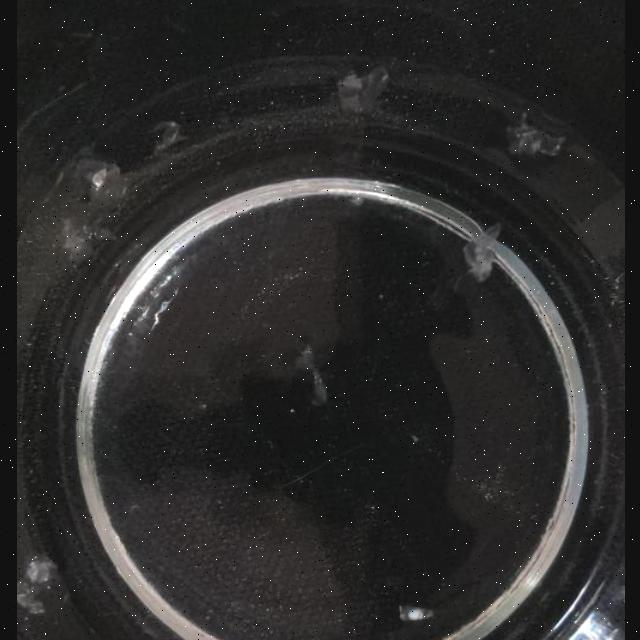Fibre: (460, 222, 504, 282), (338, 66, 388, 116), (16, 557, 58, 615), (507, 115, 563, 158), (85, 162, 125, 210), (58, 214, 94, 262), (150, 121, 180, 152), (398, 603, 430, 621), (616, 552, 624, 606)
Film: (294, 344, 328, 406)
microbeads: (408, 434, 418, 444), (198, 402, 206, 410), (288, 407, 294, 413)
